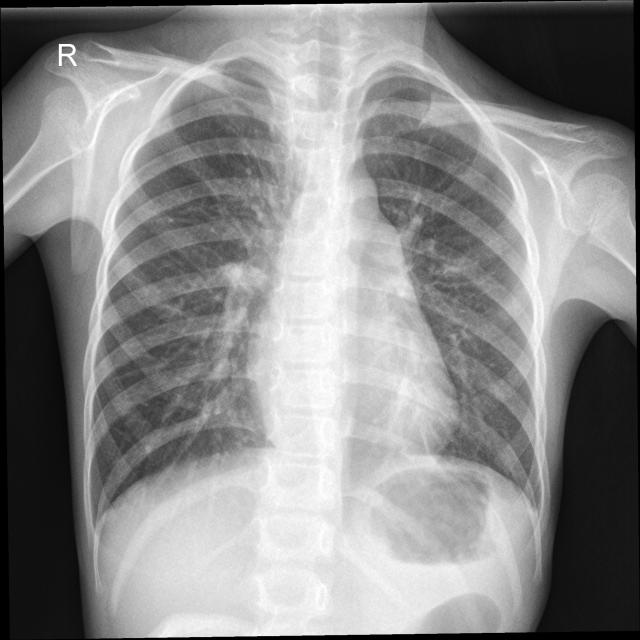no-pneumonia: (91, 59, 301, 519), (361, 68, 542, 506)
